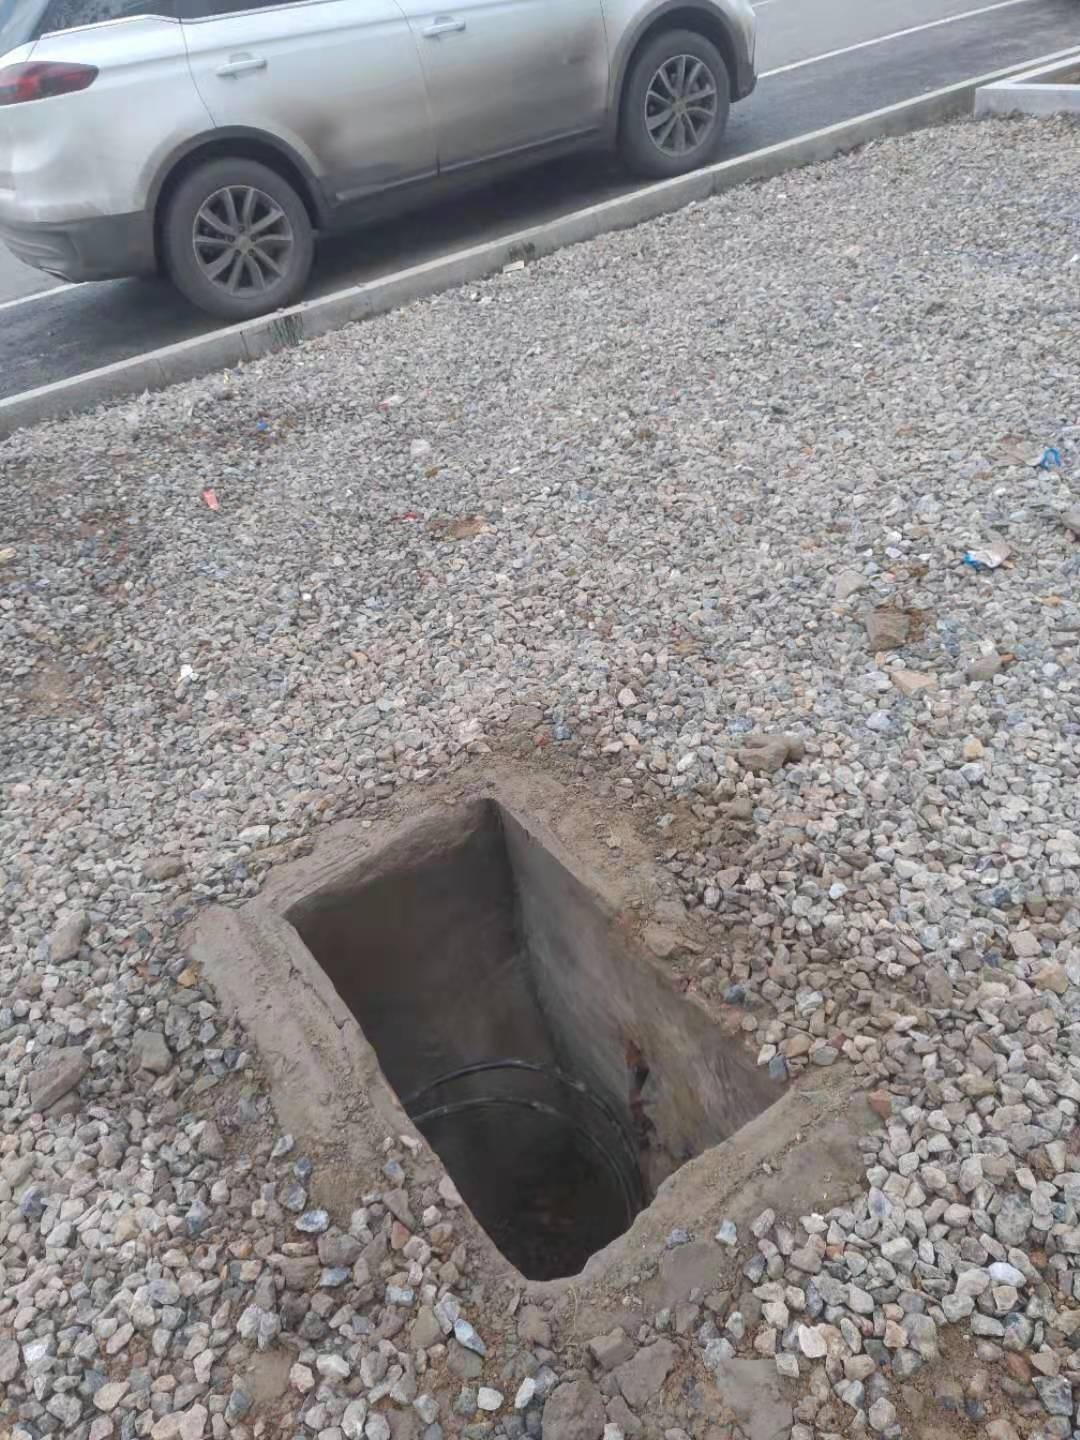lose: (271, 791, 793, 1288)
